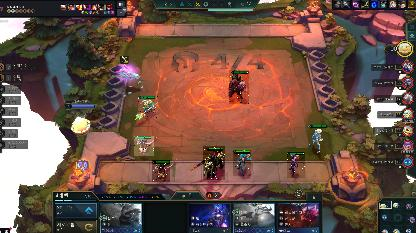1_braum: (229, 70, 249, 104)
1_jax: (138, 96, 158, 118)
1_kaisa: (233, 150, 251, 176)
1_rell: (203, 146, 225, 180)
1_twitch: (134, 136, 154, 156), (152, 160, 170, 182)
1_zyra: (287, 152, 305, 178)
2_ezreal: (308, 124, 326, 156)
